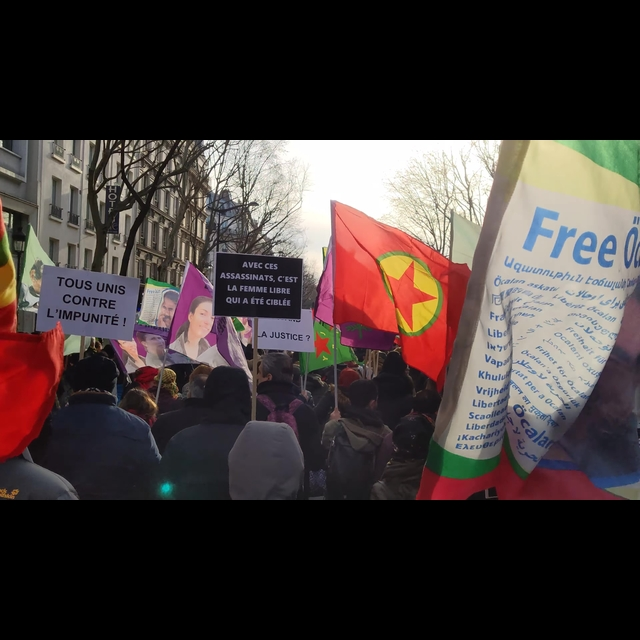PKK: (370, 246, 449, 341)
